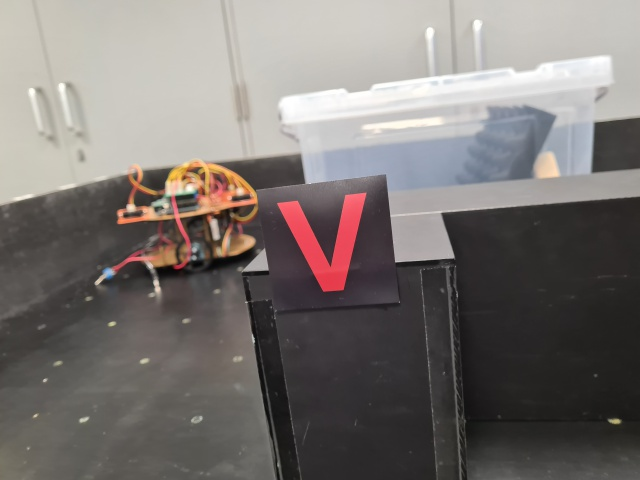alphabet_v: (255, 174, 402, 312)
